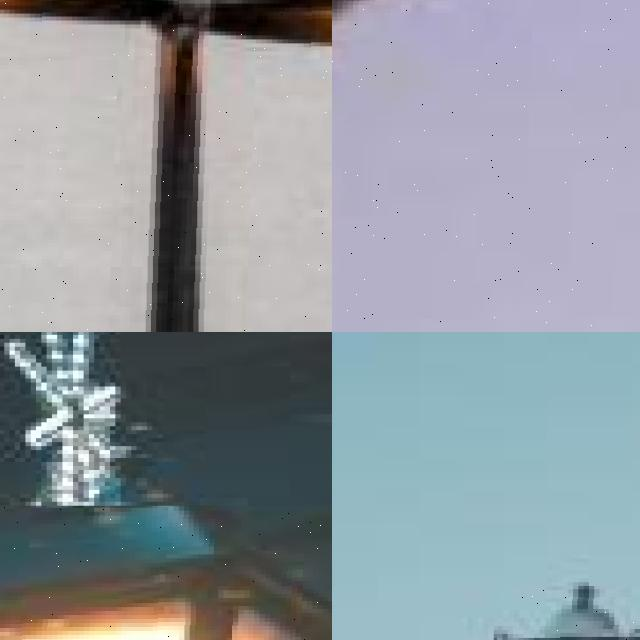street light: (0, 0, 332, 332), (332, 0, 640, 332), (0, 506, 332, 640)
